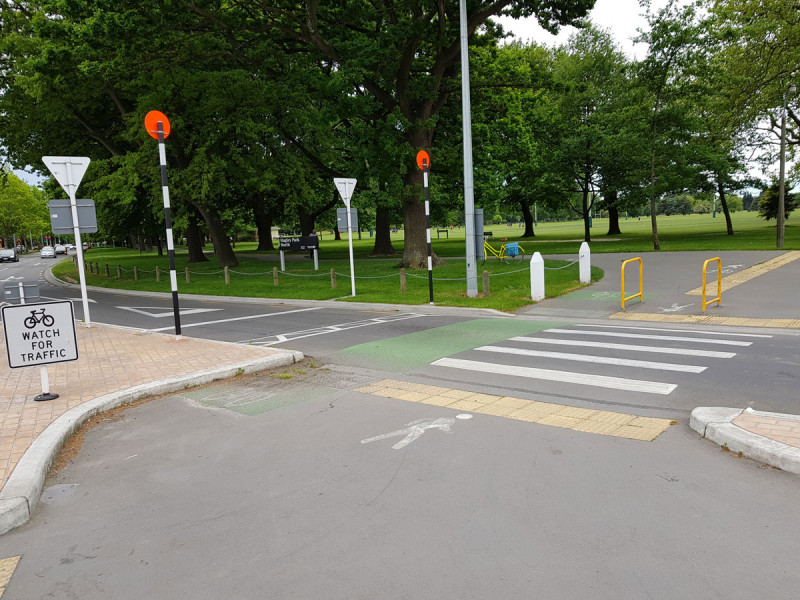bollard: (530, 252, 546, 302), (578, 243, 592, 294)
zebracross: (465, 318, 706, 407)
